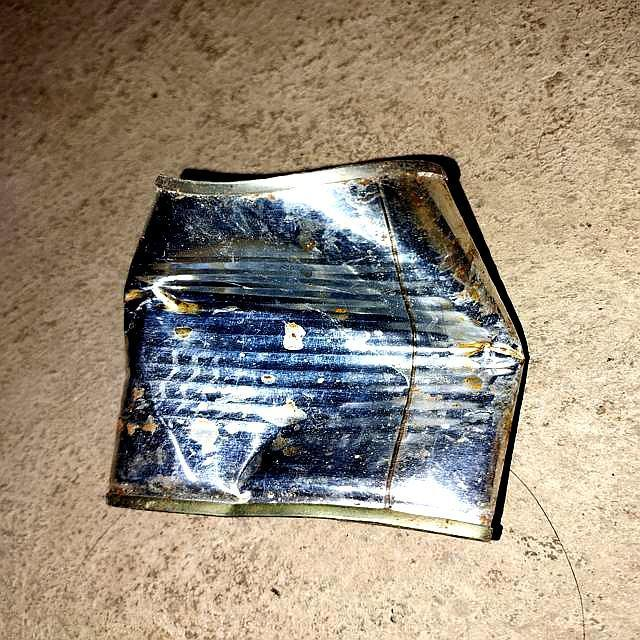Non-biodegradable: (105, 152, 531, 543)
